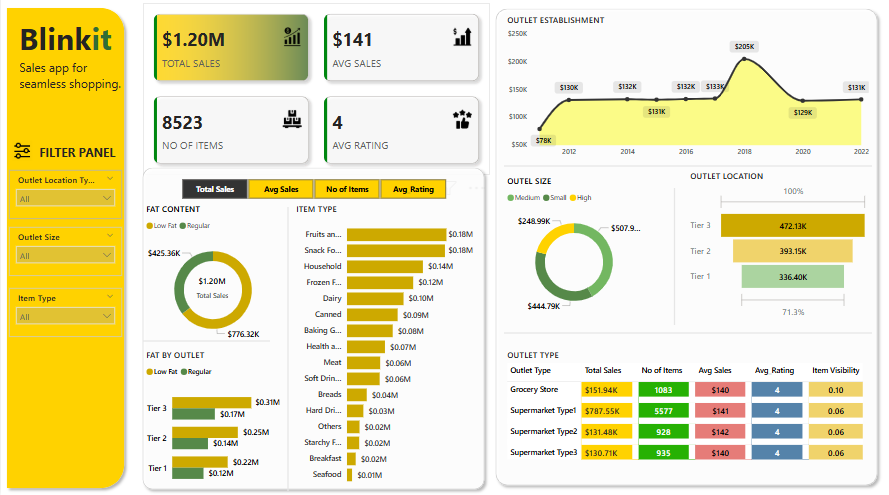

What the dashboard file says about the page in this screenshot:
{"tool":"powerbi","page":{"name":"Page 1","canvas":[1400,800],"ordinal":0},"visuals":[{"type":"shape","box":[0,23.6,203.1,774.8],"z":0},{"type":"textbox","box":[0,42.5,203.1,80.3],"z":1000},{"type":"cardVisual","fields":{"Data":["BlinkIT Grocery Data.Total Sales","BlinkIT Grocery Data.Avg Sales","BlinkIT Grocery Data.No of Items","BlinkIT Grocery Data.Avg_Rating"]},"box":[223.6,25.2,546.5,270.9],"z":2000},{"type":"shape","box":[214.2,275.6,555.9,524.4],"z":3000},{"type":"donutChart","title":"FAT CONTENT","fields":{"Y":["BlinkIT Grocery Data.Total Sales"],"Category":["BlinkIT Grocery Data.Item Fat Content"]},"box":[223.6,340.2,220.5,229.9],"z":4000},{"type":"slicer","fields":{"Values":["Metrics.Metrics"]},"box":[259.8,296.1,464.6,44.1],"z":5000},{"type":"cardVisual","fields":{"Data":["BlinkIT Grocery Data.Total Sales"]},"box":[278.7,436.2,108.7,61.4],"z":6000},{"type":"clusteredBarChart","title":"FAT BY  OUTLET","fields":{"Y":["BlinkIT Grocery Data.Total Sales"],"Category":["BlinkIT Grocery Data.Outlet Location Type"],"Series":["BlinkIT Grocery Data.Item Fat Content"]},"box":[223.6,570.1,220.5,229.9],"z":7000},{"type":"shape","box":[223.6,541.7,200,31.5],"z":8000},{"type":"shape","box":[444.1,346.5,15.7,447.2],"z":9000},{"type":"barChart","title":"ITEM TYPE","fields":{"Y":["BlinkIT Grocery Data.Total Sales"],"Category":["BlinkIT Grocery Data.Item Type"]},"box":[459.8,340.2,288.2,453.5],"z":10000},{"type":"shape","box":[770.1,25.2,618.9,768.5],"z":11000},{"type":"lineChart","title":"OUTLET ESTABLISHMENT","fields":{"Y":["BlinkIT Grocery Data.Total Sales"],"Category":["BlinkIT Grocery Data.Outlet Establishment Year"]},"box":[792.1,42.5,579.5,234.6],"z":12000},{"type":"shape","box":[792.1,275.6,579.5,12.6],"z":13000},{"type":"donutChart","title":"OUTEL SIZE ","fields":{"Y":["BlinkIT Grocery Data.Total Sales"],"Category":["BlinkIT Grocery Data.Outlet Size"]},"box":[792.1,296.1,220.5,229.9],"z":14000},{"type":"shape","box":[1052,316.5,17.3,215.7],"z":15000},{"type":"funnel","title":"OUTLET LOCATION","fields":{"Y":["Sum(BlinkIT Grocery Data.Sales)"],"Category":["BlinkIT Grocery Data.Outlet Location Type"]},"box":[1080.3,288.2,289.8,237.8],"z":16000},{"type":"shape","box":[792.1,538.6,579.5,12.6],"z":17000},{"type":"pivotTable","title":"OUTLET TYPE","fields":{"Values":["BlinkIT Grocery Data.Total Sales","BlinkIT Grocery Data.No of Items","BlinkIT Grocery Data.Avg Sales","BlinkIT Grocery Data.Avg_Rating","Avg(BlinkIT Grocery Data.Item Visibility)"],"Rows":["BlinkIT Grocery Data.Outlet Type"]},"box":[792.1,570.1,579.5,203.1],"z":18000},{"type":"slicer","fields":{"Values":["BlinkIT Grocery Data.Outlet Location Type"]},"box":[12.6,288.2,178,77.2],"z":19000},{"type":"slicer","fields":{"Values":["BlinkIT Grocery Data.Outlet Size"]},"box":[12.6,378,178,77.2],"z":20000},{"type":"slicer","fields":{"Values":["BlinkIT Grocery Data.Item Type"]},"box":[12.6,474,178,77.2],"z":21000},{"type":"textbox","box":[55.1,242.5,148,36.2],"z":22000},{"type":"image","box":[0,236.2,66.1,42.5],"z":23000},{"type":"textbox","box":[23.6,108.7,190.6,74],"z":24000}]}

Visuals, with their boxes in screenshot pixels (x1, y1, x2, y2), scaled from the page's 1400x800 canvas onto the 889x495 screenshot:
shape: bbox(0, 15, 129, 494)
textbox: bbox(0, 26, 129, 76)
cardVisual - BlinkIT Grocery Data.Total Sales x BlinkIT Grocery Data.Avg Sales: bbox(142, 16, 489, 183)
shape: bbox(136, 171, 489, 494)
"FAT CONTENT" donutChart: bbox(142, 210, 282, 353)
slicer - Metrics.Metrics: bbox(165, 183, 460, 210)
cardVisual - BlinkIT Grocery Data.Total Sales: bbox(177, 270, 246, 308)
"FAT BY  OUTLET" clusteredBarChart: bbox(142, 353, 282, 494)
shape: bbox(142, 335, 269, 355)
shape: bbox(282, 214, 292, 491)
"ITEM TYPE" barChart: bbox(292, 210, 475, 491)
shape: bbox(489, 16, 882, 491)
"OUTLET ESTABLISHMENT" lineChart: bbox(503, 26, 871, 171)
shape: bbox(503, 171, 871, 178)
"OUTEL SIZE " donutChart: bbox(503, 183, 643, 325)
shape: bbox(668, 196, 679, 329)
"OUTLET LOCATION" funnel: bbox(686, 178, 870, 325)
shape: bbox(503, 333, 871, 341)
"OUTLET TYPE" pivotTable: bbox(503, 353, 871, 478)
slicer - BlinkIT Grocery Data.Outlet Location Type: bbox(8, 178, 121, 226)
slicer - BlinkIT Grocery Data.Outlet Size: bbox(8, 234, 121, 282)
slicer - BlinkIT Grocery Data.Item Type: bbox(8, 293, 121, 341)
textbox: bbox(35, 150, 129, 172)
image: bbox(0, 146, 42, 172)
textbox: bbox(15, 67, 136, 113)
